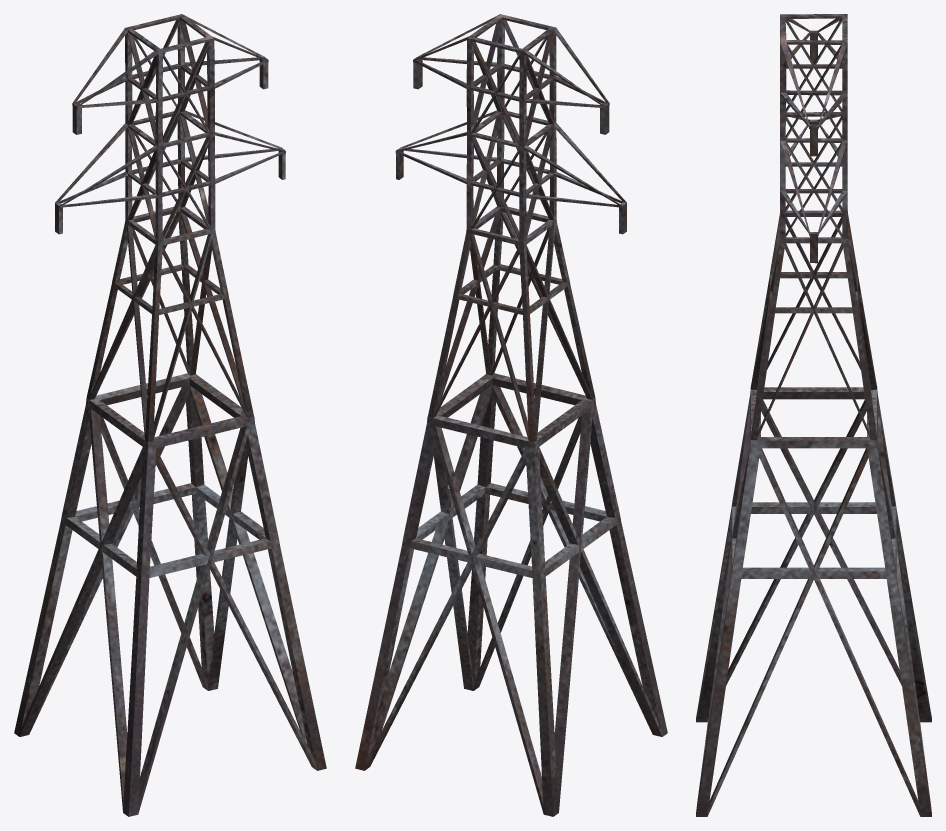
File: Powerline.fbx
3 views of the same model, side by side, from view 1: azimuth 30°, elevation 25°; view 2: azimuth 150°, elevation 25°; view 3: azimuth 270°, elevation 25° (orthographic). The views are drawn at different scales.
Visible parts, largest first — view 1: PowerLine; view 2: PowerLine; view 3: PowerLine.
Part boxes in pixels (box(x1,y1,x2,y2)): PowerLine: box(14, 14, 326, 816); PowerLine: box(355, 14, 667, 816); PowerLine: box(696, 14, 931, 816).
Bounding box in the file's own units: 91.84 × 278 × 80.27.
1 material, 1 textured.
